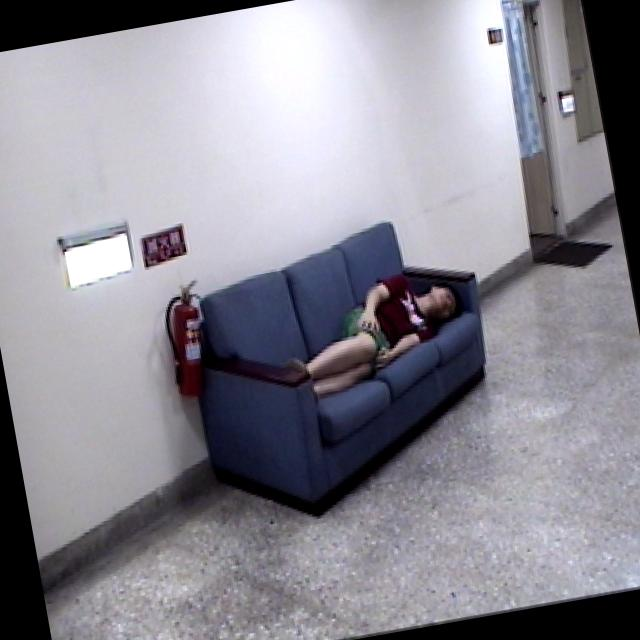lie: (265, 262, 478, 405)
